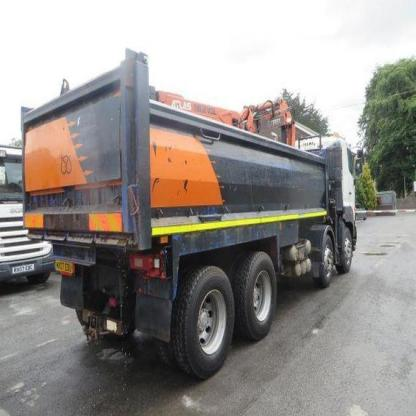dump_truck: (16, 50, 361, 375)
